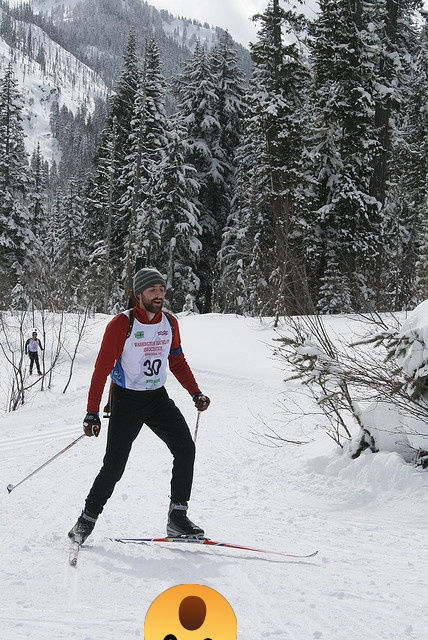wow: (144, 584, 237, 640)
